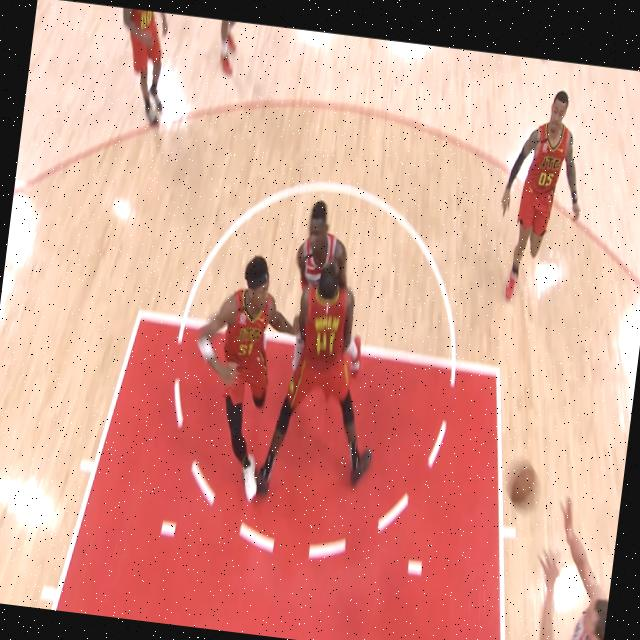foul: (243, 156, 410, 539)
